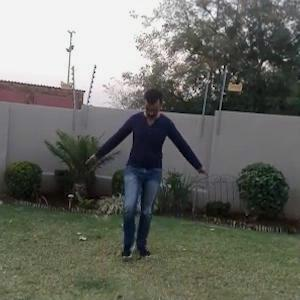land: (88, 83, 213, 270)
